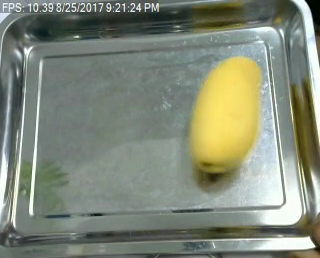Mango: (188, 56, 269, 175)
